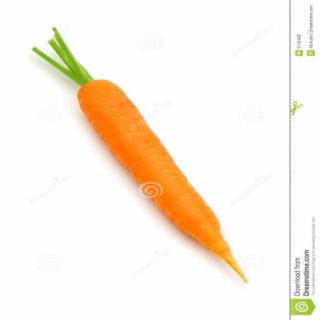Wortel: (80, 81, 233, 264)
